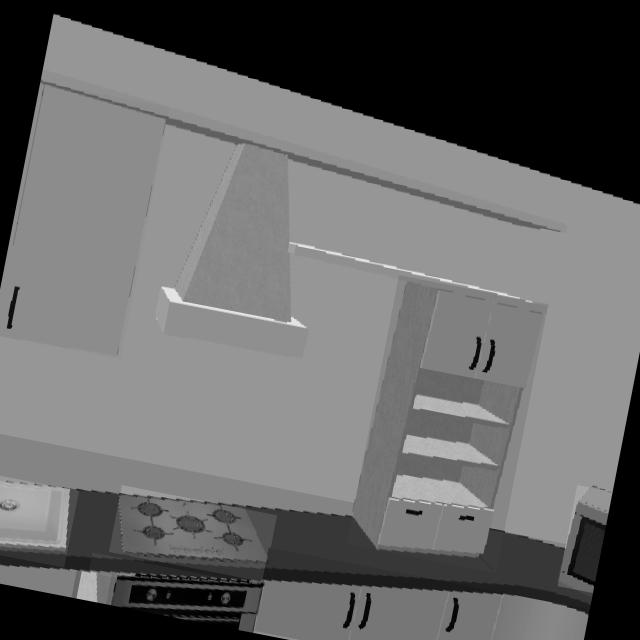cabinet: (353, 281, 547, 557), (0, 82, 167, 358), (252, 584, 587, 640), (0, 567, 118, 605)
countertop: (0, 489, 592, 615)
microwave: (560, 489, 613, 592)
oven: (88, 575, 263, 633)
sink: (0, 483, 75, 557)
stove: (118, 494, 268, 564)
